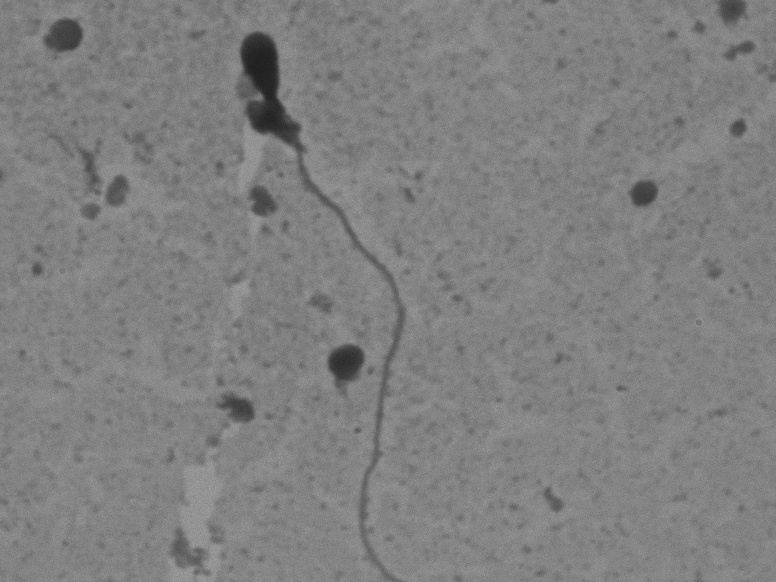Abnormal: (209, 21, 456, 573)
